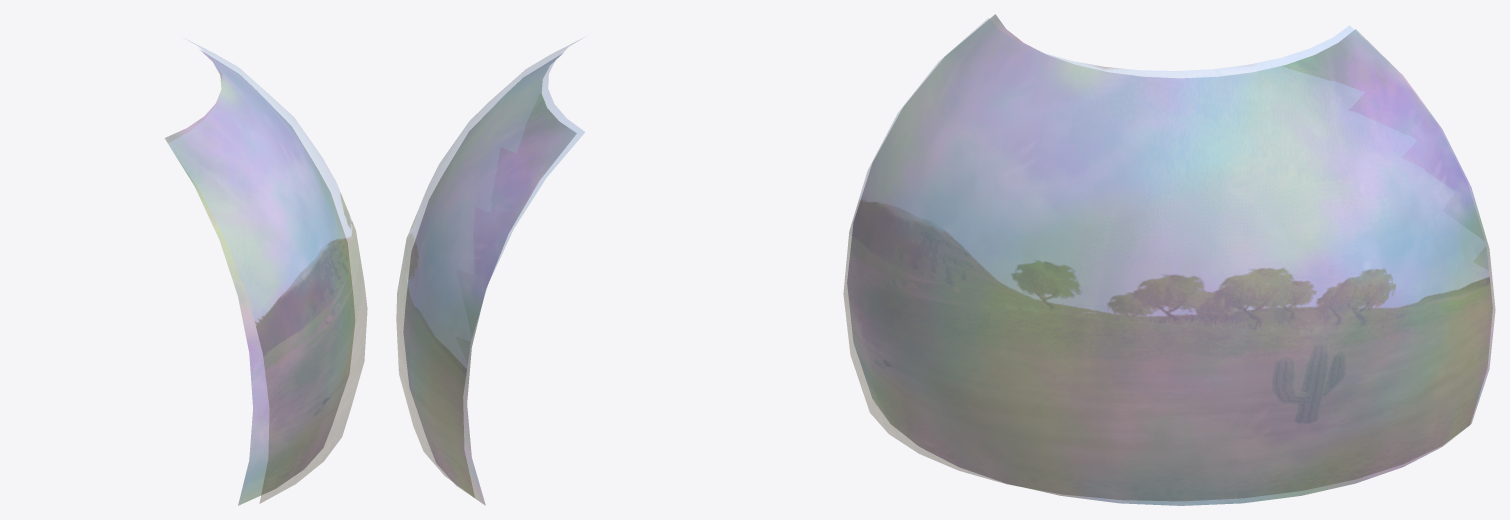
The model's file is bubble_desert1.glb.
The picture shows the model from 3 angles, left to right: view 1: azimuth 30°, elevation 25°; view 2: azimuth 150°, elevation 25°; view 3: azimuth 270°, elevation 25°; orthographic projection. The views are drawn at different scales.
Visible parts, largest first — view 1: envmap4.png__, bubble.png__; view 2: envmap4.png__, bubble.png__; view 3: envmap4.png__, bubble.png__.
Part boxes in pixels (<box>): envmap4.png__: <box>168,39,367,503</box>; bubble.png__: <box>165,50,354,505</box>; envmap4.png__: <box>396,38,584,497</box>; bubble.png__: <box>403,53,576,505</box>; envmap4.png__: <box>843,18,1492,500</box>; bubble.png__: <box>847,14,1495,505</box>.
Size of the model in its own units: 0.6371 by 0.8523 by 1.32.
2 materials, 2 textured.
